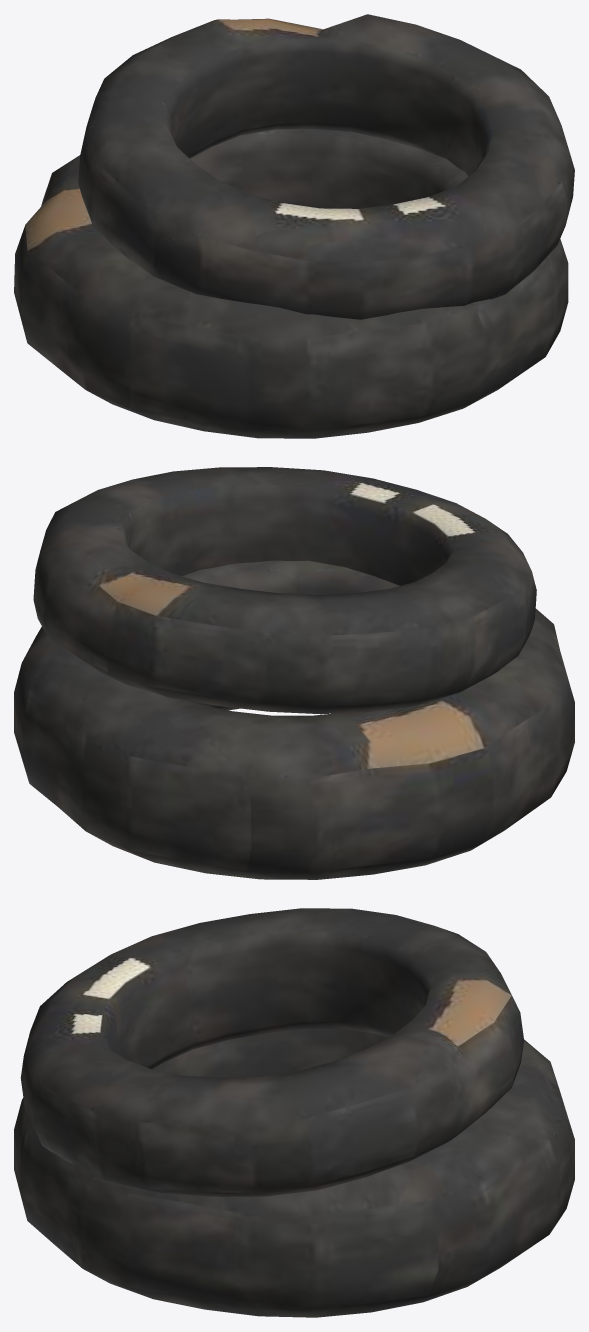
Rendered from JV15_worn_tyres_v2.glb.
The picture shows the model from 3 angles, top to bottom: view 1: azimuth 30°, elevation 25°; view 2: azimuth 150°, elevation 25°; view 3: azimuth 270°, elevation 25°; orthographic projection.
Parts seen in each view (by area): view 1: Worn tyre pair; view 2: Worn tyre pair; view 3: Worn tyre pair.
Boxes of the visible parts, <box> form: Worn tyre pair: <box>14,14,574,438</box>; Worn tyre pair: <box>14,467,574,879</box>; Worn tyre pair: <box>14,908,574,1317</box>.
Bounding box in the file's own units: 0.694 × 0.3441 × 0.7.
Materials: 4 (4 with a texture image).
